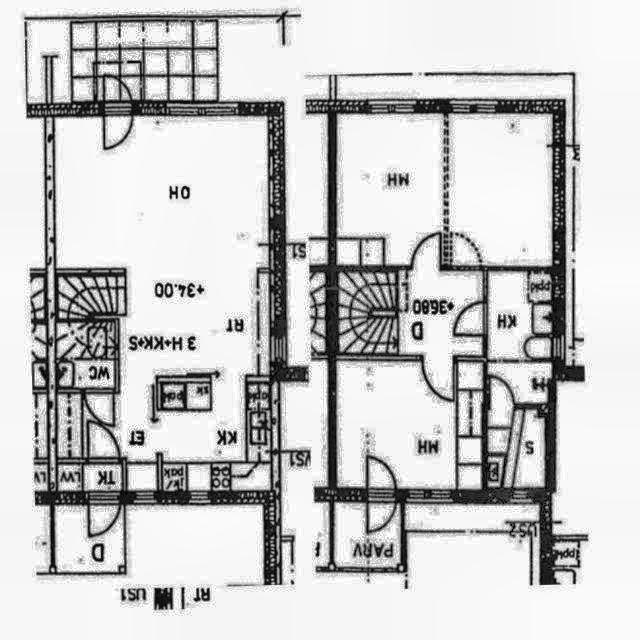room: (337, 361, 483, 488), (337, 114, 443, 266), (448, 114, 553, 266), (339, 271, 483, 355), (488, 272, 551, 358)
